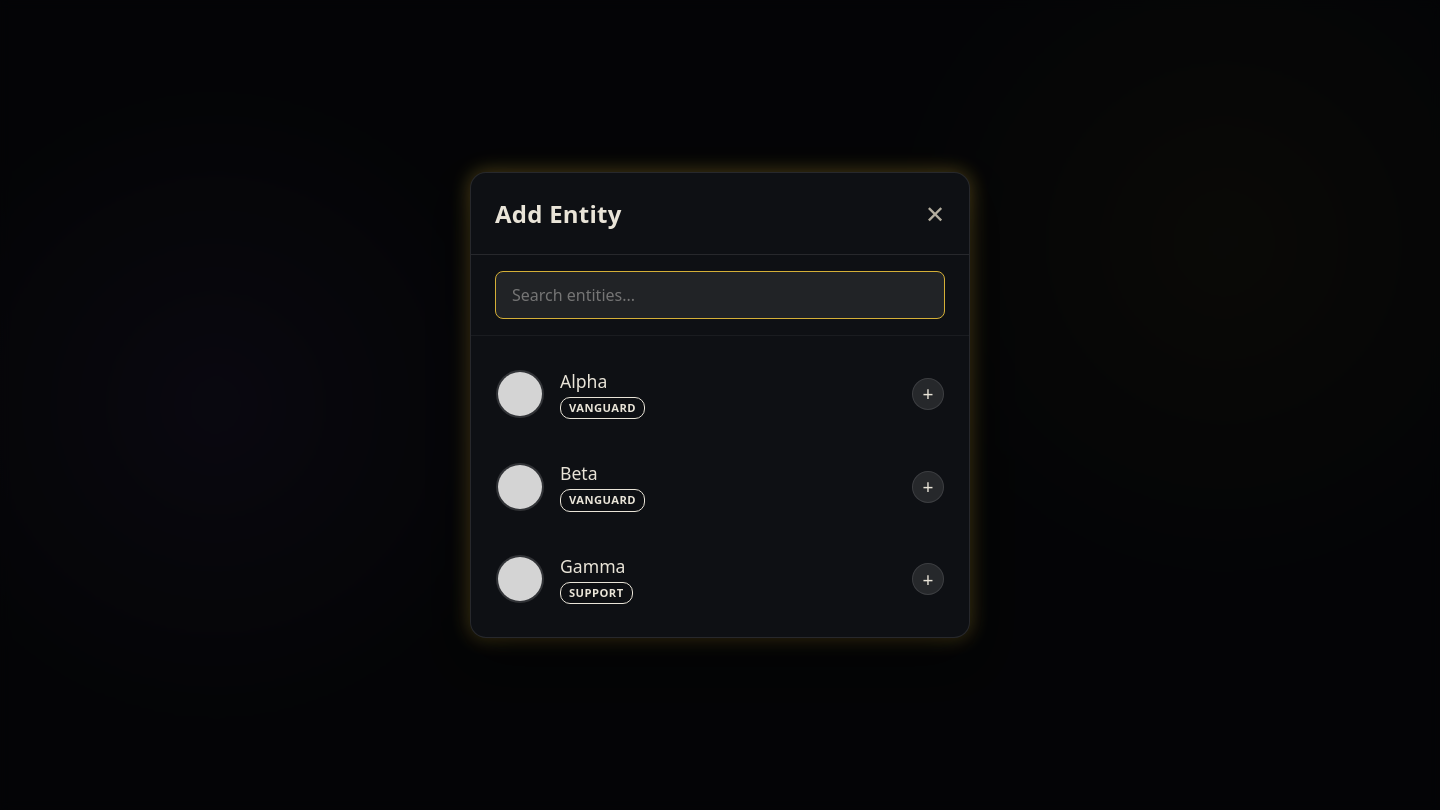
Test: AddEntityModal › fuzzy-searches by name
Type "Gama" into the field with placeholder "Search entities..." at [720, 295], box x1=495 y1=271 x2=945 y2=319
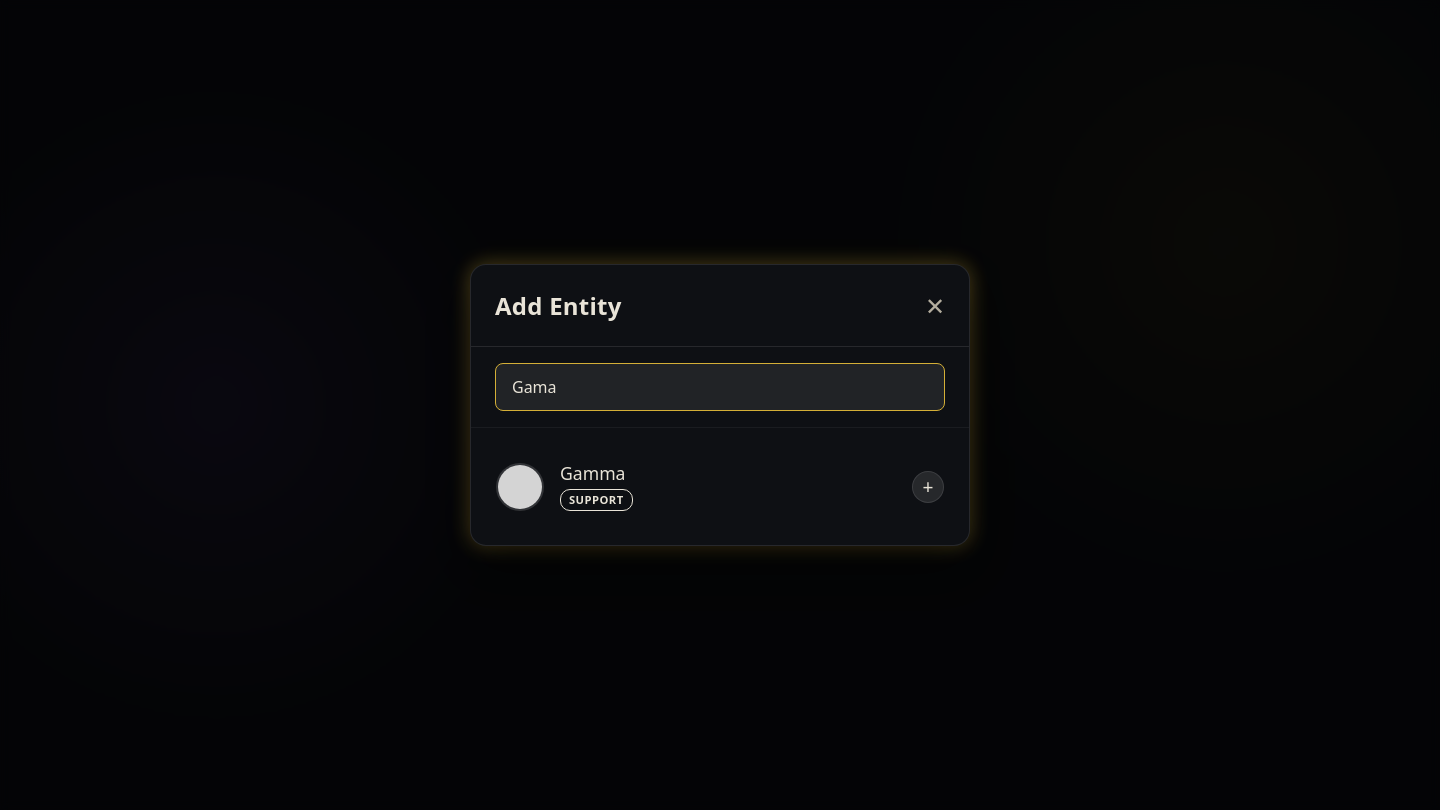
Expected: the text "Gamma" is shown, x1=560 y1=461 x2=633 y2=485
Now the text "Beta" is gone
